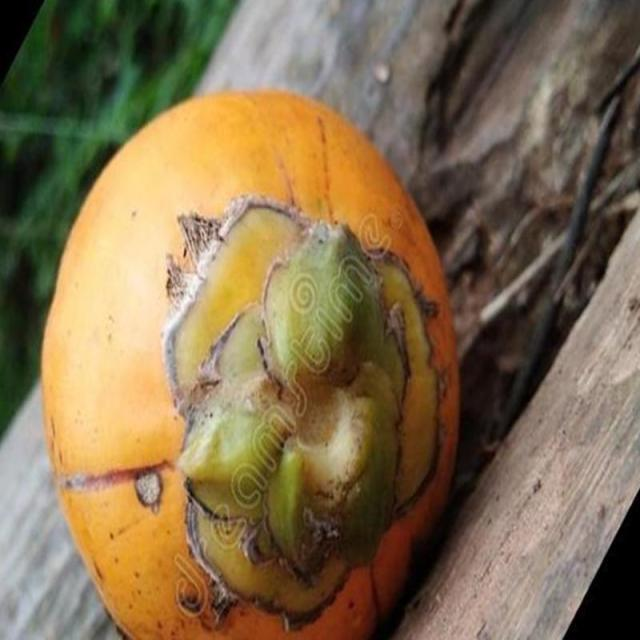good: (38, 90, 462, 639)
